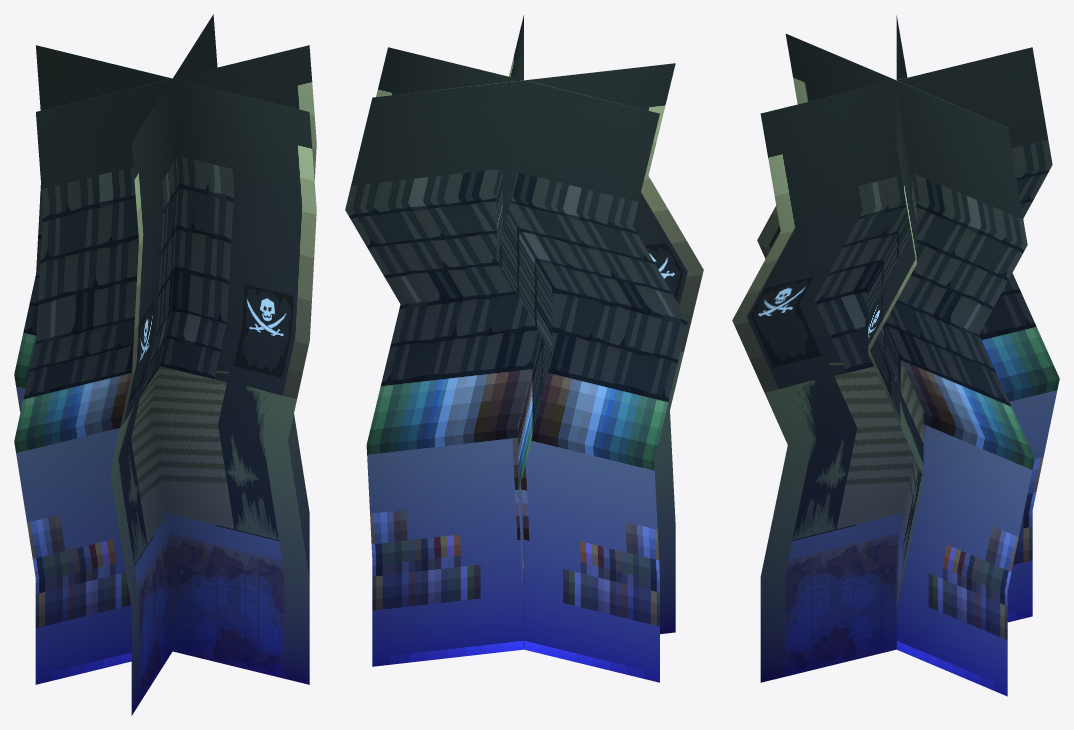
Rendered from trp_weed1.glb.
The picture shows the model from 3 angles, left to right: view 1: azimuth 30°, elevation 25°; view 2: azimuth 150°, elevation 25°; view 3: azimuth 270°, elevation 25°; orthographic projection.
Visible parts, largest first — view 1: SM_Env_Seaweed_01_LOD0; view 2: SM_Env_Seaweed_01_LOD0; view 3: SM_Env_Seaweed_01_LOD0.
Part boxes in pixels (<box>): SM_Env_Seaweed_01_LOD0: <box>14,14,316,715</box>; SM_Env_Seaweed_01_LOD0: <box>345,15,703,682</box>; SM_Env_Seaweed_01_LOD0: <box>732,15,1059,696</box>.
Size of what is drawn, in the model's own units: 1.23 by 2.2 by 1.15.
1 material, 1 textured.
